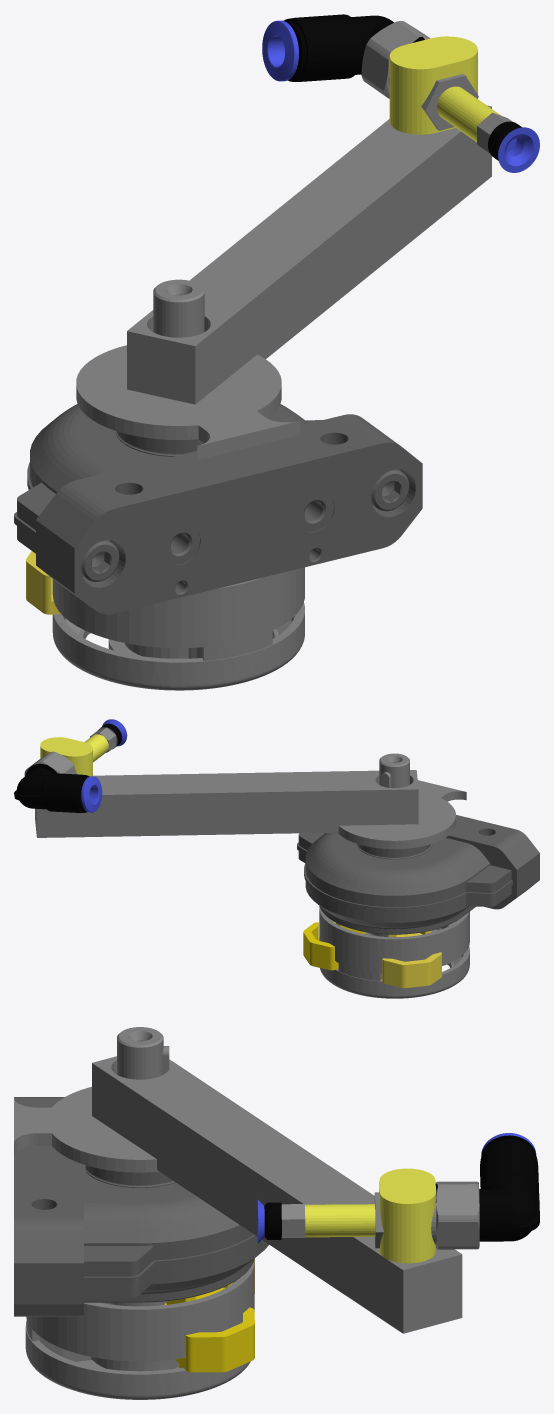
The model's file is brazo con ventosa mps 1 .fbx.
The picture shows the model from 3 angles, top to bottom: view 1: azimuth 30°, elevation 25°; view 2: azimuth 150°, elevation 25°; view 3: azimuth 270°, elevation 25°; orthographic projection. The views are drawn at different scales.
Parts seen in each view (by area): view 1: Ensamblaje1 - ACTUADOR GIRATORIO 2-1 11910 DSR-16-180-P---(0, Ensamblaje1 - BRAZO DEL ACTUADOR-1, Ensamblaje1 - ACTUADOR GIRATORIO 2-1 11910 DSR-16-180-P---(. (×2), Ensamblaje1 - ACTUADOR GIRATORIO 2-1 tapa de actuador girato, Ensamblaje1 - Ensamblaje de ventosa-1 VENTOSA-1, Ensamblaje1 - Ensamblaje de ventosa-1 186286 QSRL-G1_8-6-1, Ensamblaje1 - ACTUADOR GIRATORIO 2-1 11910 DSR-16-180-P---(; view 2: Ensamblaje1 - BRAZO DEL ACTUADOR-1, Ensamblaje1 - ACTUADOR GIRATORIO 2-1 11910 DSR-16-180-P---(0, Ensamblaje1 - ACTUADOR GIRATORIO 2-1 11910 DSR-16-180-P---(. (×3), Ensamblaje1 - ACTUADOR GIRATORIO 2-1 tapa de actuador girato, Ensamblaje1 - Ensamblaje de ventosa-1 186286 QSRL-G1_8-6-1, Ensamblaje1 - Ensamblaje de ventosa-1 VENTOSA-1, Ensamblaje1 - ACTUADOR GIRATORIO 2-1 11910 DSR-16-180-P---(; view 3: Ensamblaje1 - BRAZO DEL ACTUADOR-1, Ensamblaje1 - ACTUADOR GIRATORIO 2-1 11910 DSR-16-180-P---(0, Ensamblaje1 - ACTUADOR GIRATORIO 2-1 11910 DSR-16-180-P---(. (×2), Ensamblaje1 - Ensamblaje de ventosa-1 VENTOSA-1, Ensamblaje1 - Ensamblaje de ventosa-1 186286 QSRL-G1_8-6-1, Ensamblaje1 - ACTUADOR GIRATORIO 2-1 tapa de actuador girato, Ensamblaje1 - ACTUADOR GIRATORIO 2-1 11910 DSR-16-180-P---(.
Part boxes in pixels (x1,y1,x2,y2): Ensamblaje1 - ACTUADOR GIRATORIO 2-1 11910 DSR-16-180-P---(0: (14,404,422,614); Ensamblaje1 - BRAZO DEL ACTUADOR-1: (127,105,491,404); Ensamblaje1 - ACTUADOR GIRATORIO 2-1 11910 DSR-16-180-P---(. (×2): (26,551,304,690); Ensamblaje1 - ACTUADOR GIRATORIO 2-1 tapa de actuador girato: (76,345,299,459); Ensamblaje1 - Ensamblaje de ventosa-1 VENTOSA-1: (389,36,539,172); Ensamblaje1 - Ensamblaje de ventosa-1 186286 QSRL-G1_8-6-1: (262,14,429,98); Ensamblaje1 - ACTUADOR GIRATORIO 2-1 11910 DSR-16-180-P---(: (153,279,204,337); Ensamblaje1 - BRAZO DEL ACTUADOR-1: (35,770,418,837); Ensamblaje1 - ACTUADOR GIRATORIO 2-1 11910 DSR-16-180-P---(0: (297,815,539,934); Ensamblaje1 - ACTUADOR GIRATORIO 2-1 11910 DSR-16-180-P---(. (×3): (303,906,469,998); Ensamblaje1 - ACTUADOR GIRATORIO 2-1 tapa de actuador girato: (338,780,466,849); Ensamblaje1 - Ensamblaje de ventosa-1 186286 QSRL-G1_8-6-1: (14,751,102,812); Ensamblaje1 - Ensamblaje de ventosa-1 VENTOSA-1: (40,719,127,776); Ensamblaje1 - ACTUADOR GIRATORIO 2-1 11910 DSR-16-180-P---(: (365,753,455,936); Ensamblaje1 - BRAZO DEL ACTUADOR-1: (92,1056,462,1333); Ensamblaje1 - ACTUADOR GIRATORIO 2-1 11910 DSR-16-180-P---(0: (14,1097,268,1316); Ensamblaje1 - ACTUADOR GIRATORIO 2-1 11910 DSR-16-180-P---(. (×2): (25,1259,254,1399); Ensamblaje1 - Ensamblaje de ventosa-1 VENTOSA-1: (257,1168,435,1263); Ensamblaje1 - Ensamblaje de ventosa-1 186286 QSRL-G1_8-6-1: (431,1133,539,1249); Ensamblaje1 - ACTUADOR GIRATORIO 2-1 tapa de actuador girato: (14,1087,158,1172); Ensamblaje1 - ACTUADOR GIRATORIO 2-1 11910 DSR-16-180-P---(: (99,1027,233,1306).
Bounding box in the file's own units: 1416 × 860 × 1125.
